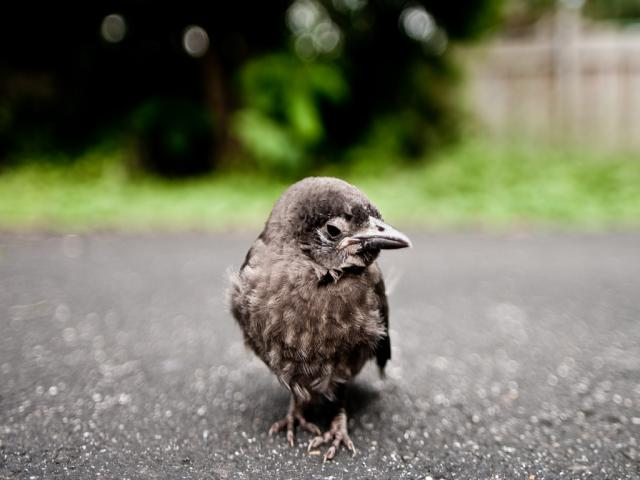Bird: (221, 172, 416, 459)
